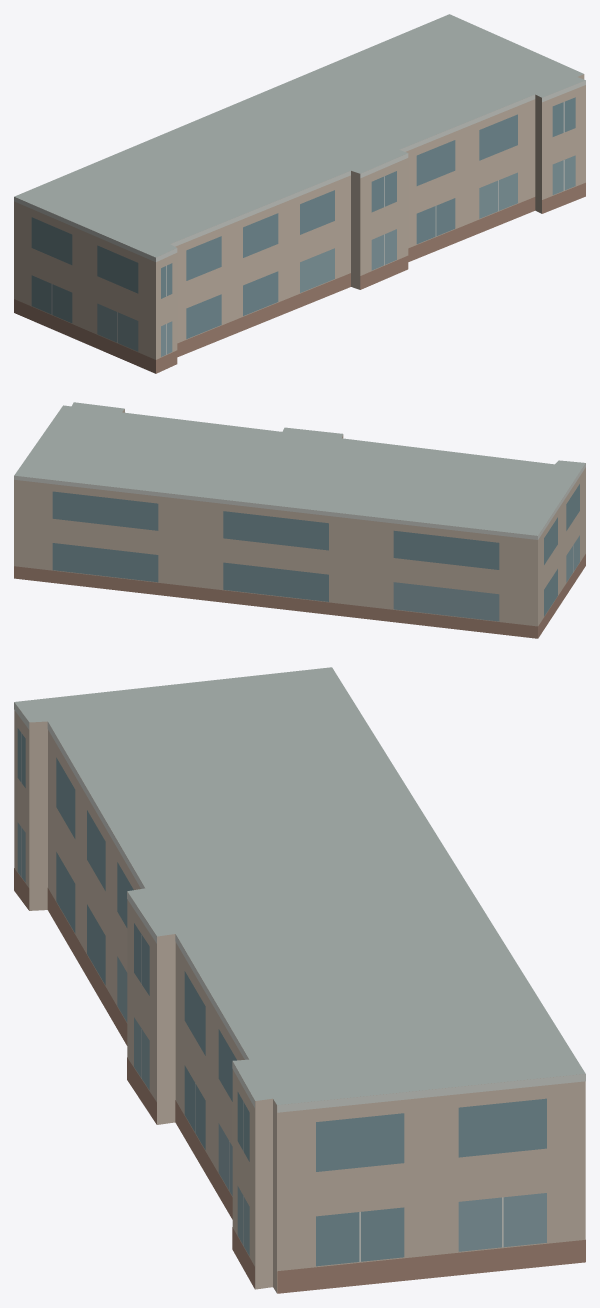
Rendered from survey-upis-32751325.glb.
The picture shows the model from 3 angles, top to bottom: view 1: azimuth 30°, elevation 25°; view 2: azimuth 150°, elevation 25°; view 3: azimuth 270°, elevation 25°; orthographic projection. The views are drawn at different scales.
Parts seen in each view (by area): view 1: survey-upis-32751325.tmp; view 2: survey-upis-32751325.tmp; view 3: survey-upis-32751325.tmp.
Boxes of the visible parts, x1,y1,x2,y2 form: survey-upis-32751325.tmp: [14, 14, 585, 373]; survey-upis-32751325.tmp: [14, 402, 585, 638]; survey-upis-32751325.tmp: [14, 667, 585, 1293].
Bounding box in the file's own units: 30.41 × 6.1 × 16.78.
